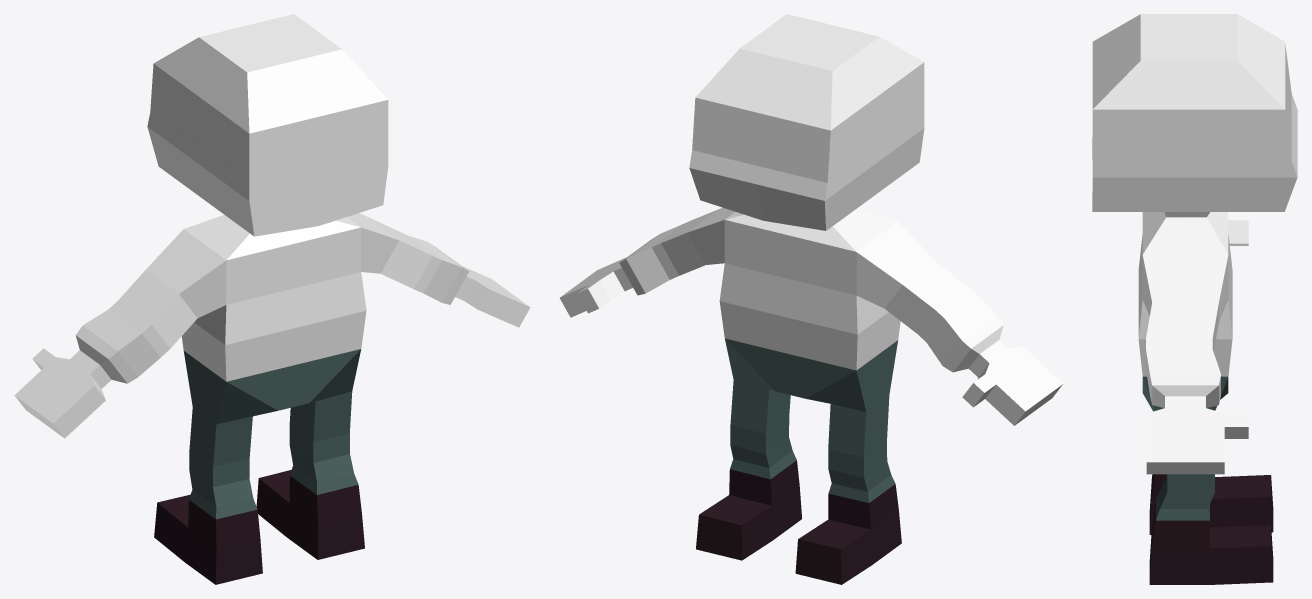
File: ludz.fbx
3 views of the same model, side by side, from view 1: azimuth 30°, elevation 25°; view 2: azimuth 150°, elevation 25°; view 3: azimuth 270°, elevation 25° (orthographic). The views are drawn at different scales.
Visible parts, largest first — view 1: Cube; view 2: Cube; view 3: Cube.
Part boxes in pixels (x1,y1,x2,y2): Cube: (14, 14, 530, 584); Cube: (560, 14, 1063, 584); Cube: (1092, 14, 1297, 584).
Bounding box in the file's own units: 162 × 165 × 60.
